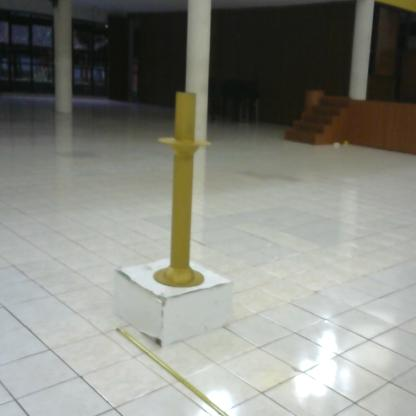pole: (155, 91, 214, 293)
